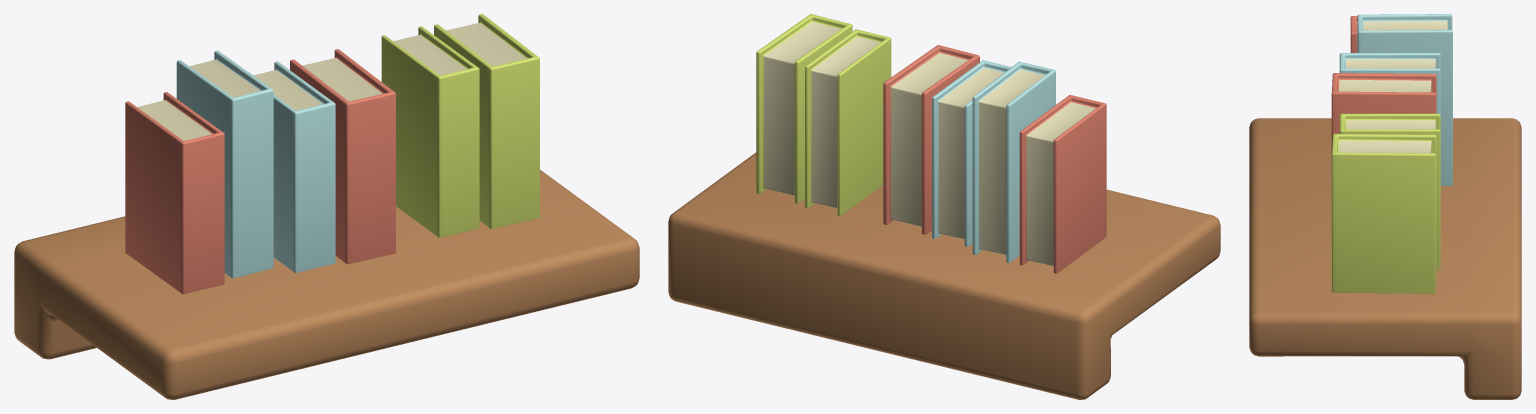
3 views of the same model, side by side, from view 1: azimuth 30°, elevation 25°; view 2: azimuth 150°, elevation 25°; view 3: azimuth 270°, elevation 25° (orthographic). The views are drawn at different scales.
Visible parts, largest first — view 1: Book, BookShelf; view 2: BookShelf, Book; view 3: BookShelf, Book.
Part boxes in pixels (x1,y1,x2,y2): Book: [125, 14, 539, 294]; BookShelf: [14, 170, 639, 399]; BookShelf: [668, 152, 1220, 399]; Book: [756, 14, 1106, 273]; BookShelf: [1249, 118, 1521, 399]; Book: [1331, 14, 1452, 293].
Size of the model in its own units: 99.2 by 55.58 by 56.8.
